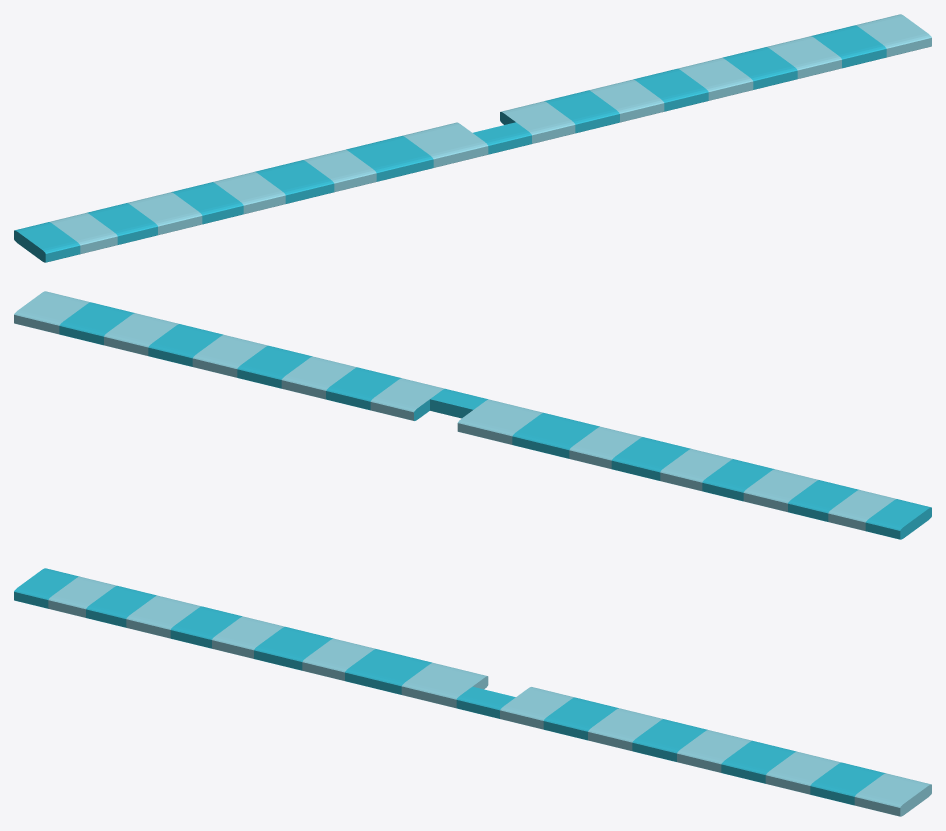
Rendered from pizza track .fbx.
The picture shows the model from 3 angles, top to bottom: view 1: azimuth 30°, elevation 25°; view 2: azimuth 150°, elevation 25°; view 3: azimuth 330°, elevation 25°; orthographic projection.
Visible parts, largest first — view 1: Cube.001; view 2: Cube.001; view 3: Cube.001.
Boxes of the visible parts, left/top/right/bottom form: Cube.001: left=14, top=14, right=931, bottom=262; Cube.001: left=14, top=291, right=931, bottom=539; Cube.001: left=14, top=568, right=931, bottom=816.
Bounding box in the file's own units: 16074 × 200 × 1000.
Materials: 1 (1 with a texture image).
